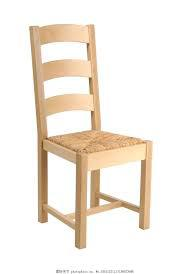chair: (19, 10, 154, 248)
